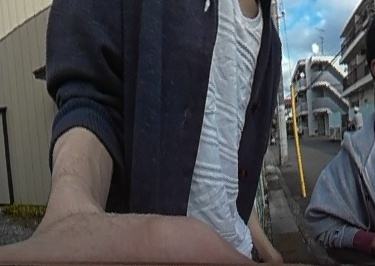person: (348, 104, 363, 131)
